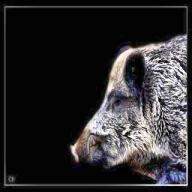boar: (69, 33, 187, 185)
